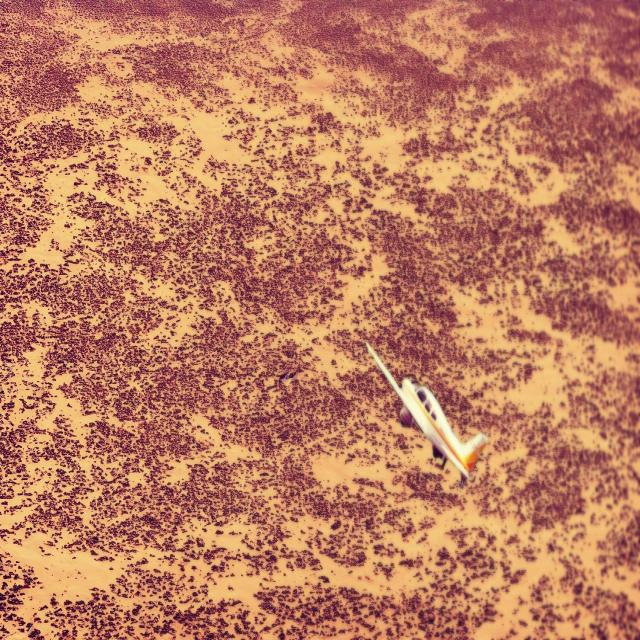airplane: (365, 339, 488, 486)
